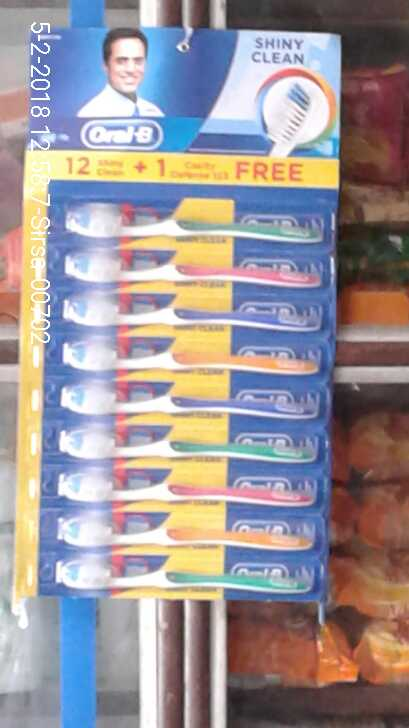oralb: (46, 367, 322, 430), (43, 456, 310, 519), (64, 287, 333, 343), (56, 243, 322, 298), (37, 412, 320, 457), (49, 518, 316, 559), (63, 332, 323, 374), (64, 196, 332, 234), (53, 552, 305, 592)
